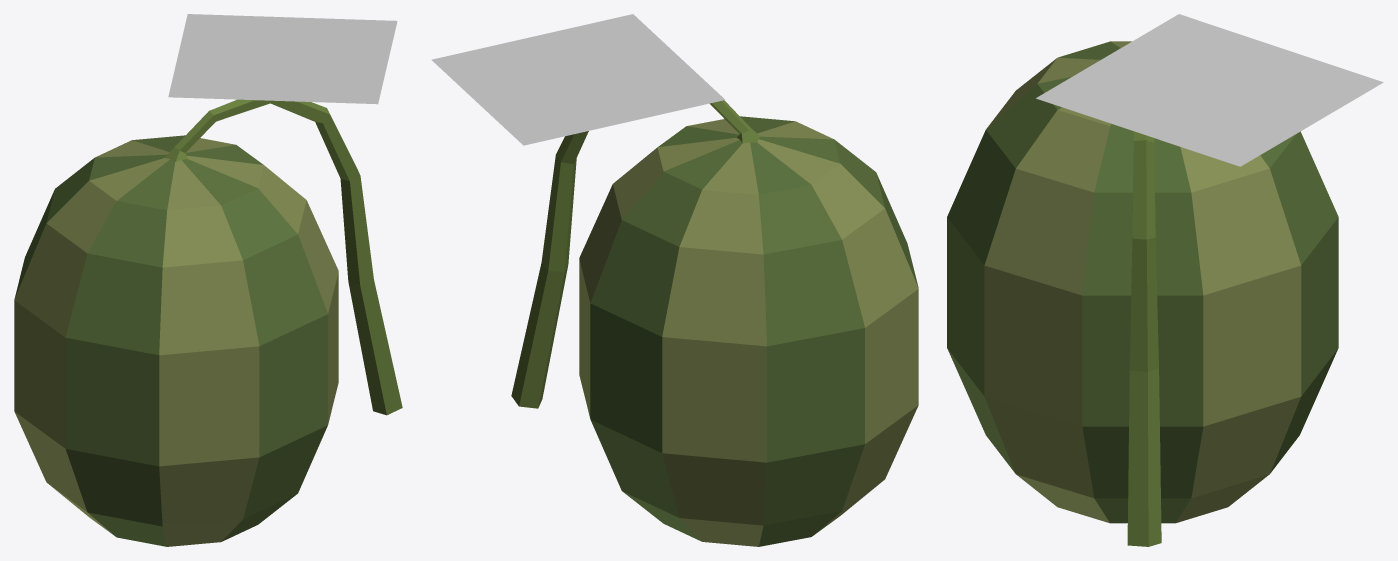
Rendered from SM_Envr_Nature_Farm_Plant_Watermelon.fbx.
The picture shows the model from 3 angles, left to right: view 1: azimuth 30°, elevation 25°; view 2: azimuth 150°, elevation 25°; view 3: azimuth 270°, elevation 25°; orthographic projection. The views are drawn at different scales.
Visible parts, largest first — view 1: SM_Envr_Nature_Farm_Plant_Watermelon; view 2: SM_Envr_Nature_Farm_Plant_Watermelon; view 3: SM_Envr_Nature_Farm_Plant_Watermelon.
Part boxes in pixels (x1,y1,x2,y2): SM_Envr_Nature_Farm_Plant_Watermelon: (14, 14, 402, 546); SM_Envr_Nature_Farm_Plant_Watermelon: (431, 14, 918, 546); SM_Envr_Nature_Farm_Plant_Watermelon: (947, 14, 1383, 546).
Bounding box in the file's own units: 28.89 × 28.98 × 23.21.
